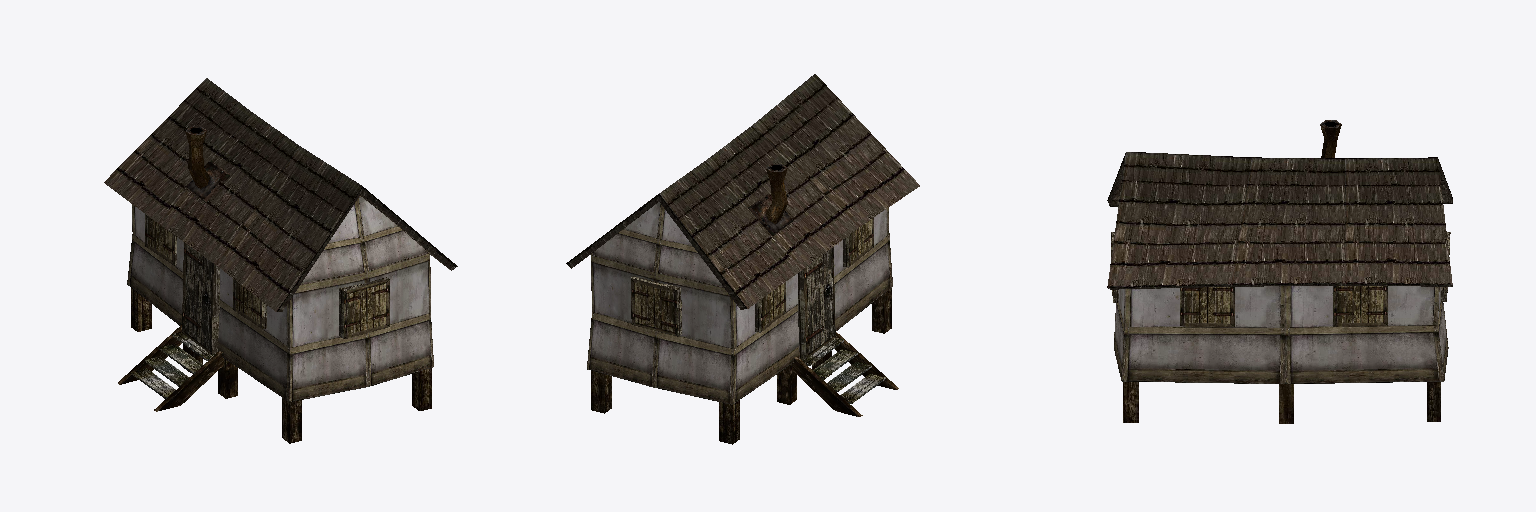
The picture shows the model from 3 angles: view 1: azimuth 30°, elevation 25°; view 2: azimuth 150°, elevation 25°; view 3: azimuth 270°, elevation 25°; orthographic projection.
Visible parts, largest first — view 1: default; view 2: default; view 3: default.
Part boxes in pixels (left/top/right/bottom): default: left=104, top=78, right=457, bottom=443; default: left=566, top=74, right=919, bottom=444; default: left=1107, top=120, right=1452, bottom=423.
Size of the model in its own units: 5.36 by 5.28 by 6.95.
Materials: 1 (1 with a texture image).